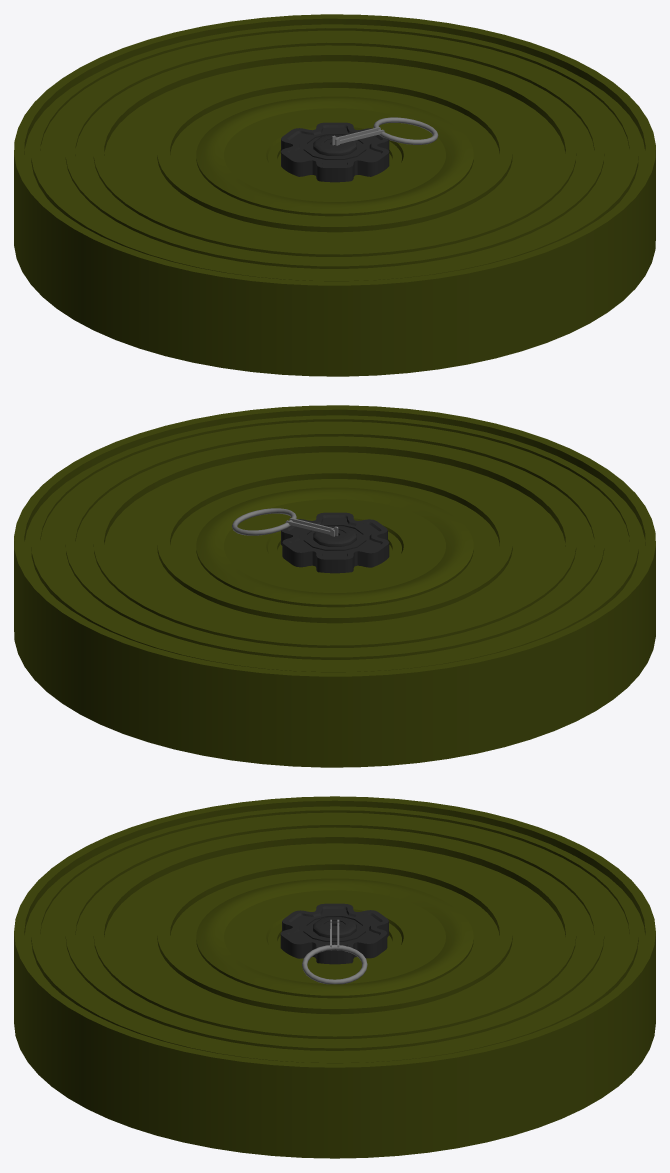
Rendered from LandMine_low.fbx.
The picture shows the model from 3 angles, top to bottom: view 1: azimuth 30°, elevation 25°; view 2: azimuth 150°, elevation 25°; view 3: azimuth 270°, elevation 25°; orthographic projection.
Parts seen in each view (by area): view 1: LandMine_low; view 2: LandMine_low; view 3: LandMine_low.
Boxes of the visible parts, <box> form: LandMine_low: <box>14,14,655,376</box>; LandMine_low: <box>14,405,655,767</box>; LandMine_low: <box>14,796,655,1158</box>.
Size of the model in its own units: 400 by 71.01 by 400.
